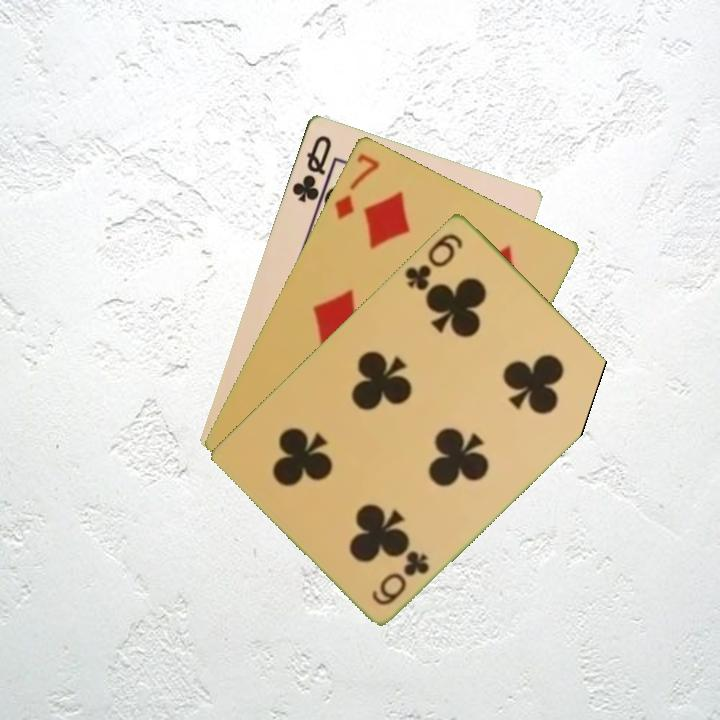6c: (401, 229, 466, 294), (368, 546, 433, 608)
7d: (330, 149, 383, 222)
Qc: (288, 131, 335, 205)
